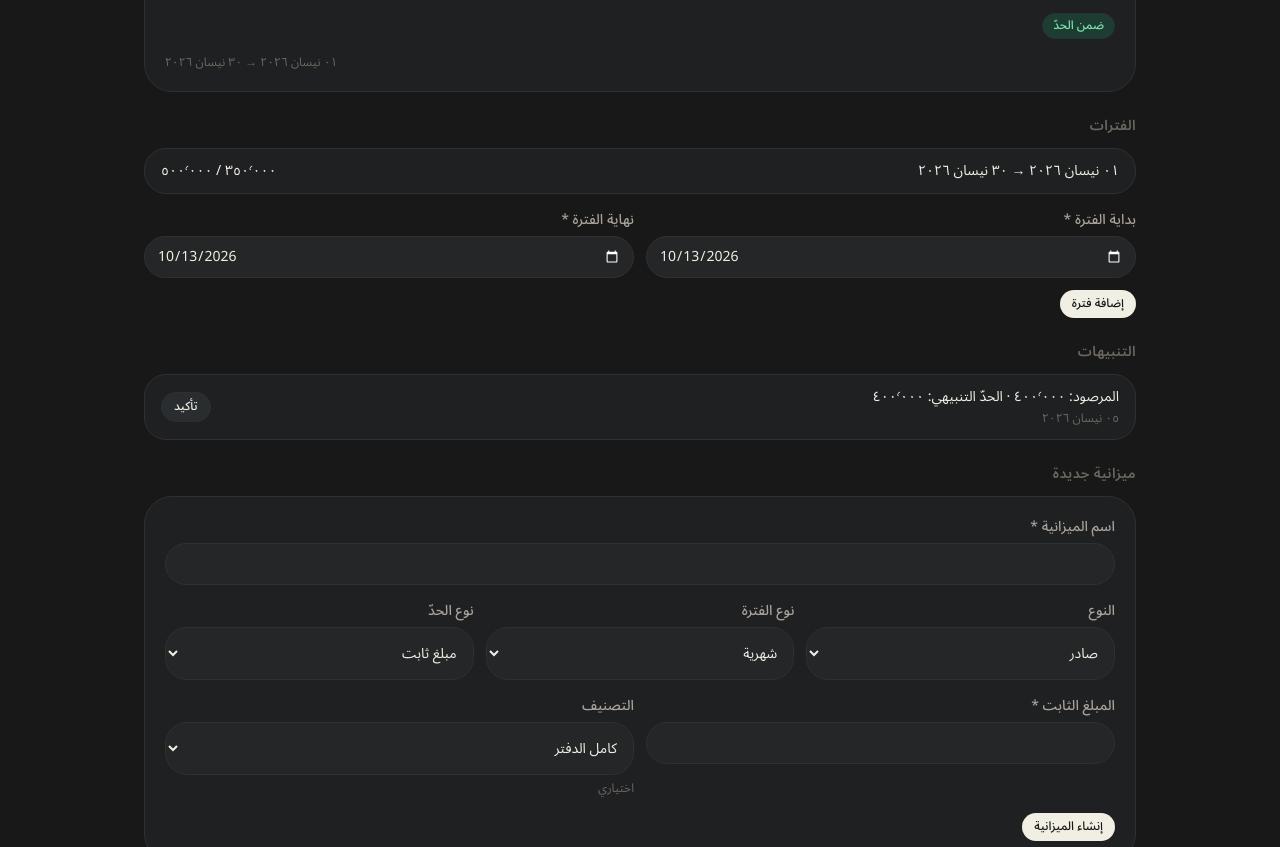
it: BudgetsView alerts › reports an alert that was already handled by someone else
(page scrolled)
Click the button "تأكيد" at (186, 408), box [161,392,211,422]
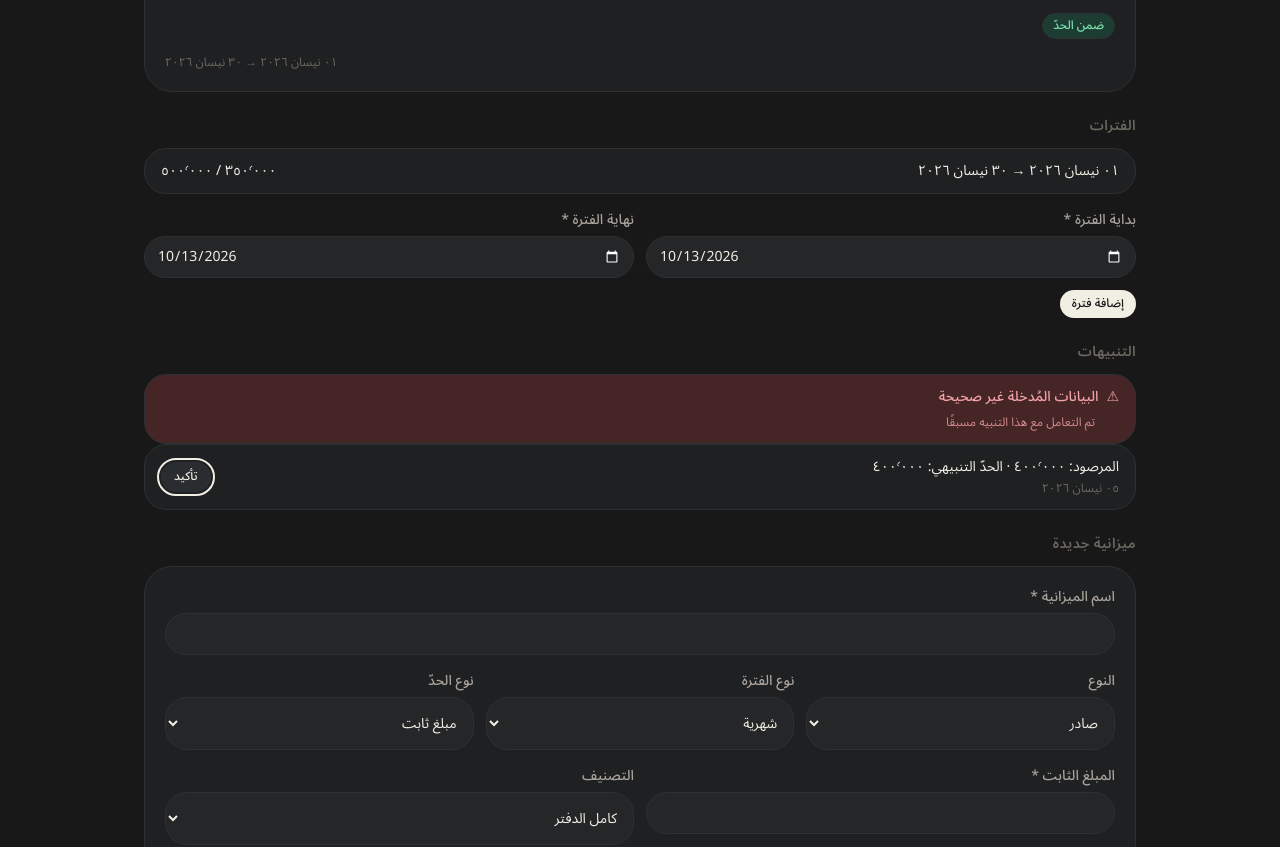
expect the text "تم التعامل مع هذا التنبيه مسبقًا" is shown: met, box [946,410,1095,436]
